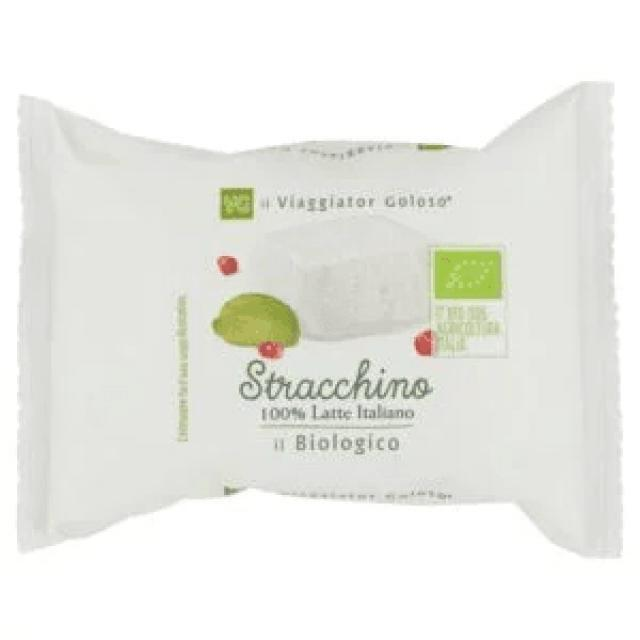cheese: (0, 83, 634, 561)
